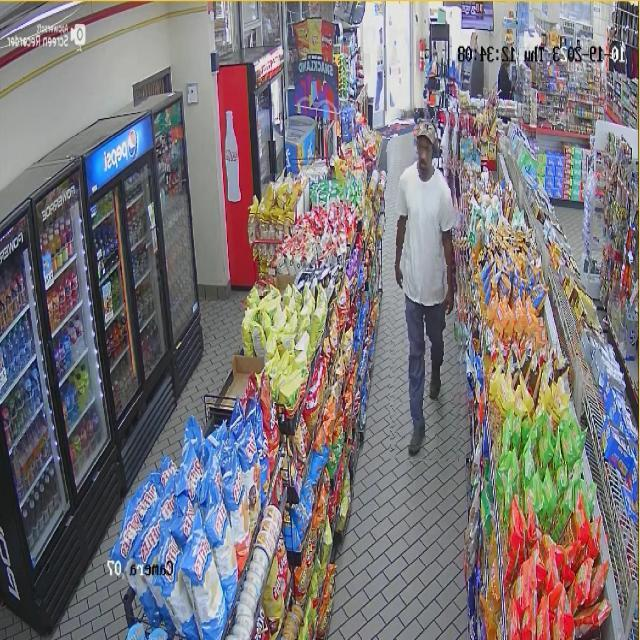Normal: (390, 108, 467, 461)
